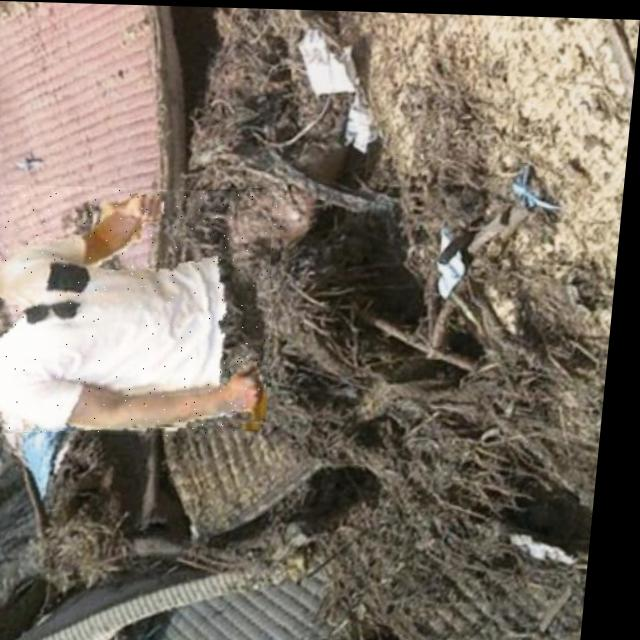Person in Rubble: (0, 183, 288, 436)
